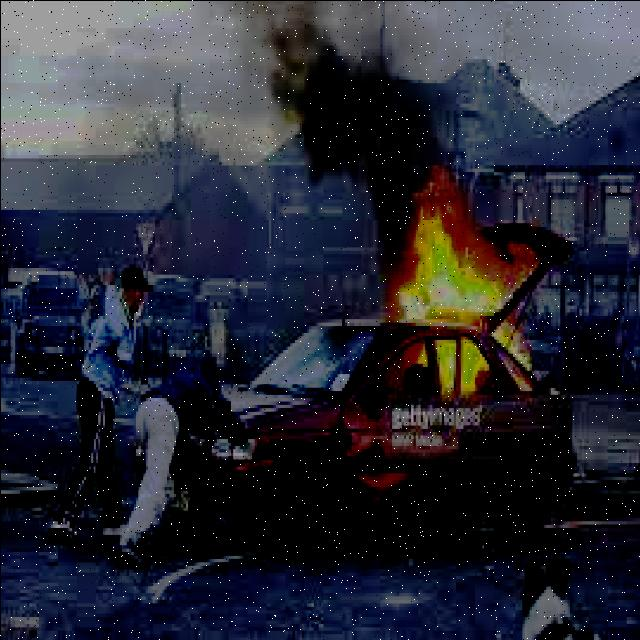api: (383, 176, 549, 395)
